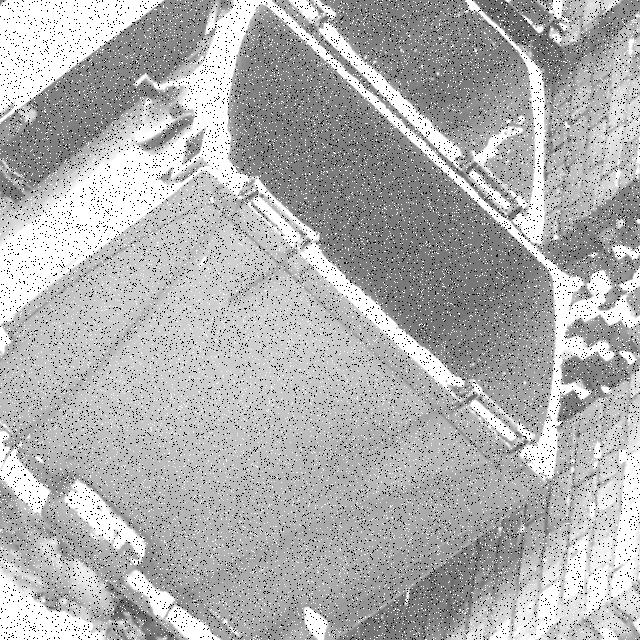Trashcan: (0, 0, 570, 635)
